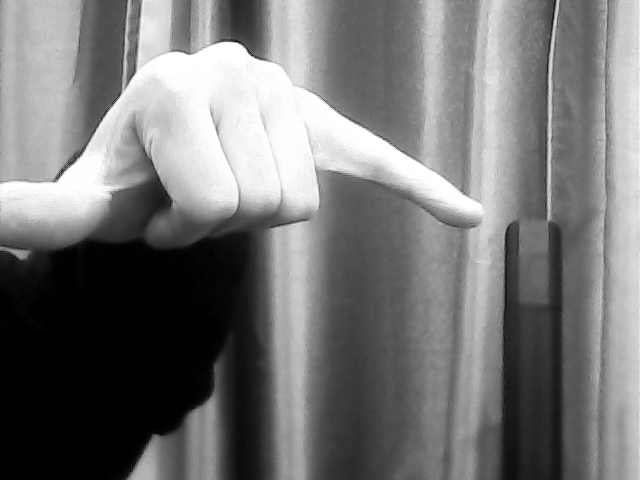aloha: (1, 38, 488, 263)
